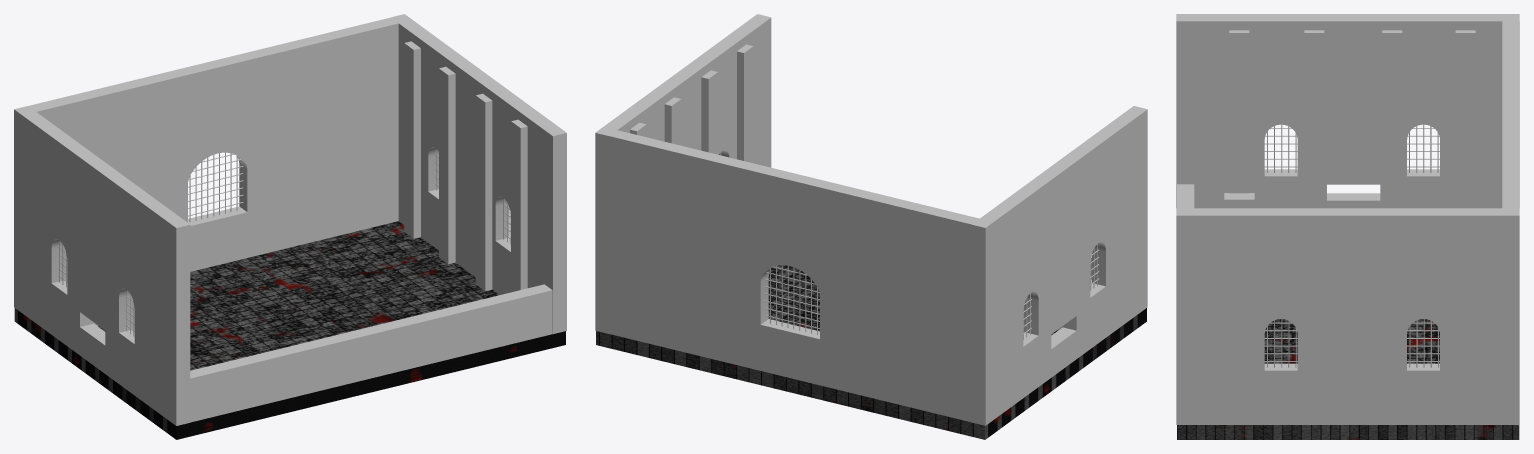
The model's file is Kitchen1.fbx.
The picture shows the model from 3 angles, left to right: view 1: azimuth 30°, elevation 25°; view 2: azimuth 150°, elevation 25°; view 3: azimuth 270°, elevation 25°; orthographic projection. The views are drawn at different scales.
Parts seen in each view (by area): view 1: WallBack, WallLeft, Cube.016, WallRight, WallFront, Cube.014, Cube.020, Cube.019, Cube.013, Circle.004, Circle.006; view 2: WallBack, WallLeft, WallRight, Cube.016, Cube.013, Cube.014, Circle.004, Cube.019, Circle.006; view 3: WallRight, WallLeft, Cube.016, Cube.008, Cube.018, Cube.021, Cube.015, WallBack, WallFront, Circle.011, Circle.013, Circle.007 (+1 smaller).
Boxes of the visible parts, bbox=[...] form: WallBack: bbox=[28, 17, 398, 280]; WallLeft: bbox=[14, 106, 190, 425]; Cube.016: bbox=[14, 221, 565, 439]; WallRight: bbox=[391, 14, 566, 333]; WallFront: bbox=[190, 284, 552, 422]; Cube.014: bbox=[475, 93, 492, 291]; Cube.020: bbox=[404, 41, 420, 238]; Cube.019: bbox=[439, 66, 455, 264]; Cube.013: bbox=[511, 119, 527, 292]; Circle.004: bbox=[189, 152, 237, 222]; Circle.006: bbox=[188, 154, 243, 216]; WallBack: bbox=[609, 130, 979, 422]; WallLeft: bbox=[971, 106, 1147, 425]; WallRight: bbox=[595, 14, 771, 333]; Cube.016: bbox=[596, 265, 1146, 439]; Cube.013: bbox=[737, 44, 753, 162]; Cube.014: bbox=[701, 70, 717, 154]; Circle.004: bbox=[770, 265, 817, 334]; Cube.019: bbox=[664, 97, 681, 145]; Circle.006: bbox=[764, 266, 819, 329]; WallRight: bbox=[1176, 208, 1519, 424]; WallLeft: bbox=[1176, 14, 1519, 208]; Cube.016: bbox=[1177, 319, 1519, 439]; Cube.008: bbox=[1304, 30, 1324, 208]; Cube.018: bbox=[1455, 30, 1475, 208]; Cube.021: bbox=[1382, 30, 1402, 208]; Cube.015: bbox=[1229, 30, 1249, 208]; WallBack: bbox=[1502, 21, 1519, 208]; WallFront: bbox=[1177, 184, 1194, 208]; Circle.011: bbox=[1409, 319, 1438, 367]; Circle.013: bbox=[1409, 124, 1438, 172]; Circle.007: bbox=[1267, 319, 1296, 367].
Size of the model in its own units: 27.88 by 14.48 by 20.07.
